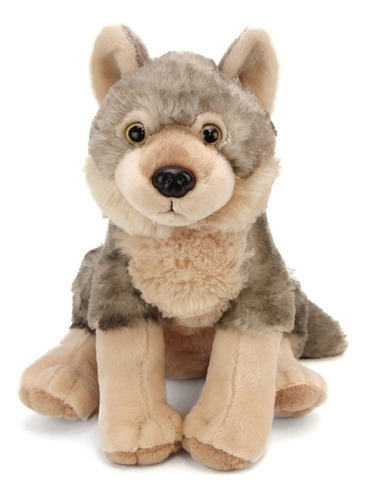Lobo: (37, 18, 356, 481)
